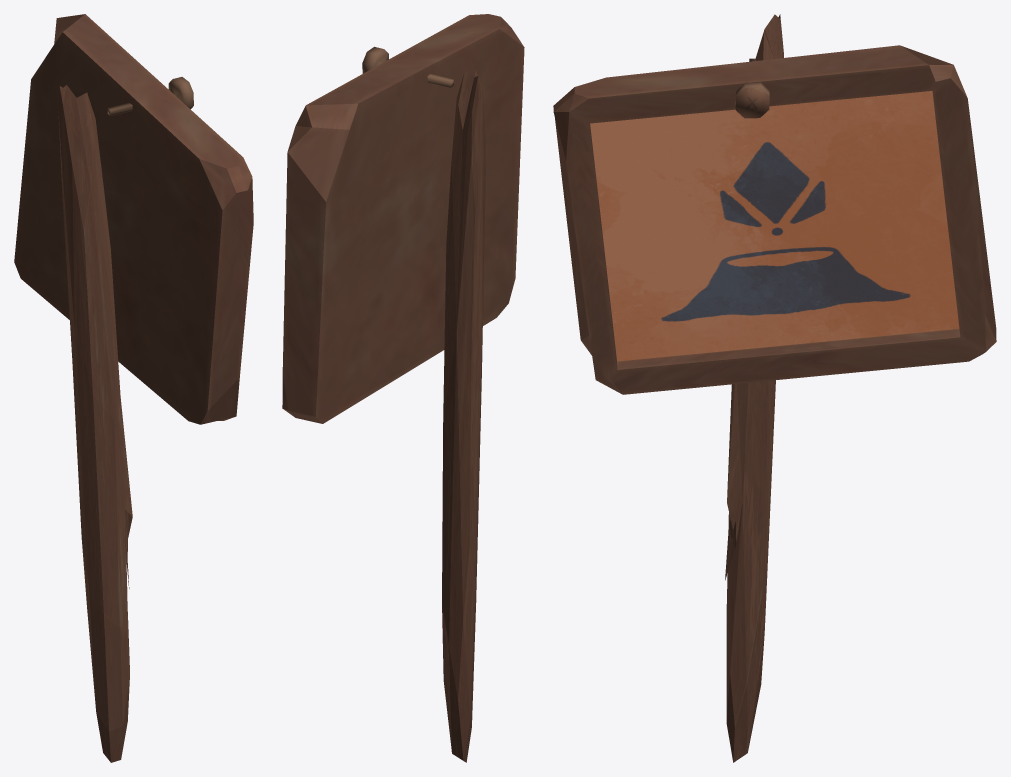
Rendered from Billboard_tree.fbx.
3 renders of one model, left to right at view 1: azimuth 30°, elevation 25°; view 2: azimuth 150°, elevation 25°; view 3: azimuth 270°, elevation 25°, orthographic. The views are drawn at different scales.
Parts seen in each view (by area): view 1: Billboard003.001, Stick003, Pin003; view 2: Billboard003.001, Stick003, Pin003; view 3: Billboard003.001, Stick003, Pin003.
Part boxes in pixels (<box>): Billboard003.001: <box>14,14,253,424</box>; Stick003: <box>58,85,132,762</box>; Pin003: <box>107,77,193,115</box>; Billboard003.001: <box>282,14,524,423</box>; Stick003: <box>442,71,485,762</box>; Pin003: <box>362,46,453,87</box>; Billboard003.001: <box>553,45,996,394</box>; Stick003: <box>725,14,783,762</box>; Pin003: <box>735,58,769,118</box>.
Size of the model in its own units: 48.93 by 273 by 150.
Materials: 1 (1 with a texture image).
